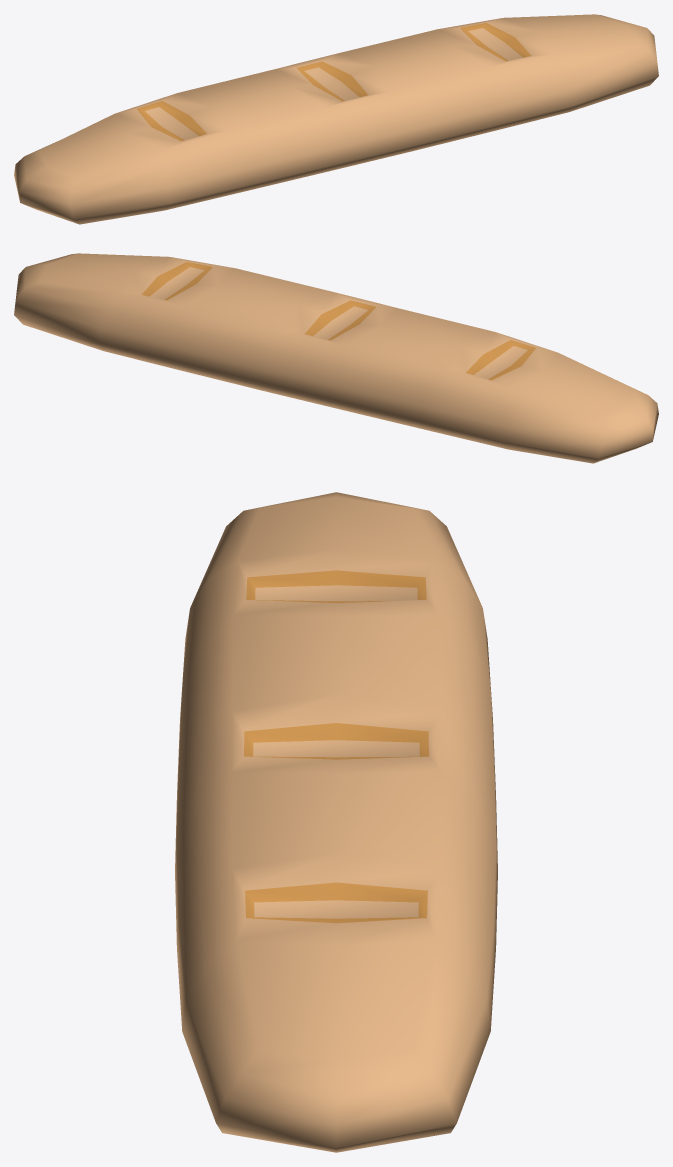
File: Baguette.fbx
3 renders of one model, top to bottom at view 1: azimuth 30°, elevation 25°; view 2: azimuth 150°, elevation 25°; view 3: azimuth 270°, elevation 25°, orthographic. The views are drawn at different scales.
Parts seen in each view (by area): view 1: Baguette; view 2: Baguette; view 3: Baguette.
Part boxes in pixels (left/top/right/bottom): Baguette: left=14, top=14, right=658, bottom=224; Baguette: left=14, top=253, right=658, bottom=463; Baguette: left=175, top=492, right=497, bottom=1152.
Size of the model in its own units: 146 by 14.93 by 32.2.
